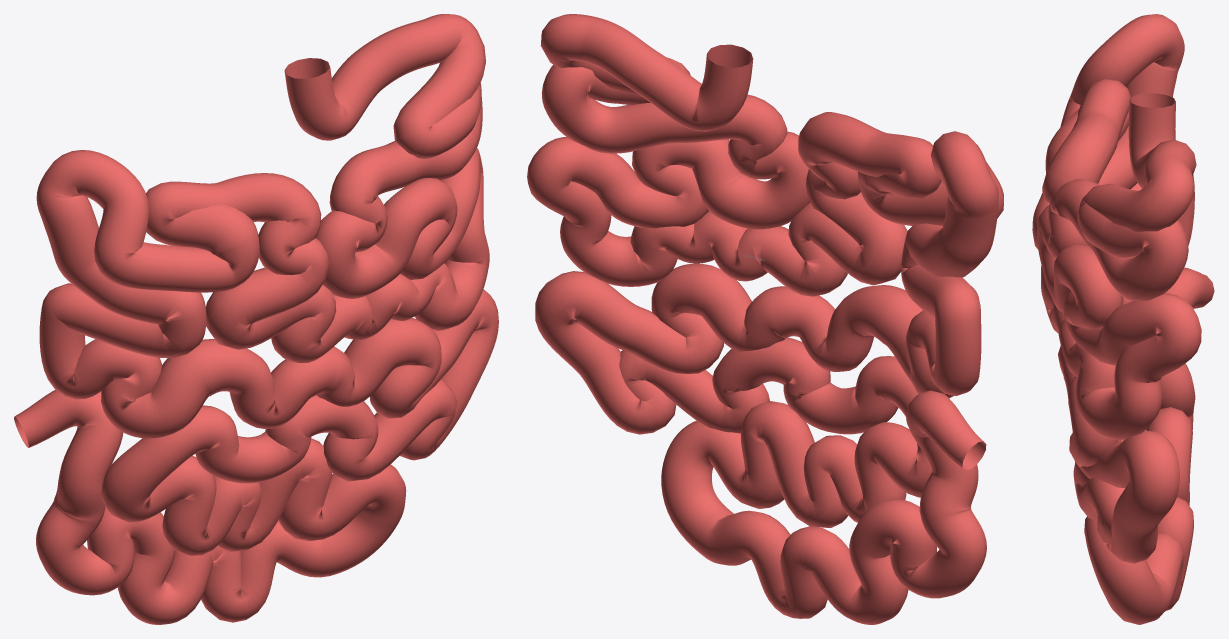
The model's file is small insentive.fbx.
3 renders of one model, left to right at view 1: azimuth 30°, elevation 25°; view 2: azimuth 150°, elevation 25°; view 3: azimuth 270°, elevation 25°, orthographic.
Visible parts, largest first — view 1: Jejunum; view 2: Jejunum; view 3: Jejunum.
Boxes of the visible parts, x1,y1,x2,y2 form: Jejunum: [14, 14, 498, 624]; Jejunum: [527, 14, 1003, 624]; Jejunum: [1032, 14, 1214, 624].
Size of the model in its own units: 212 by 242 by 71.99.
